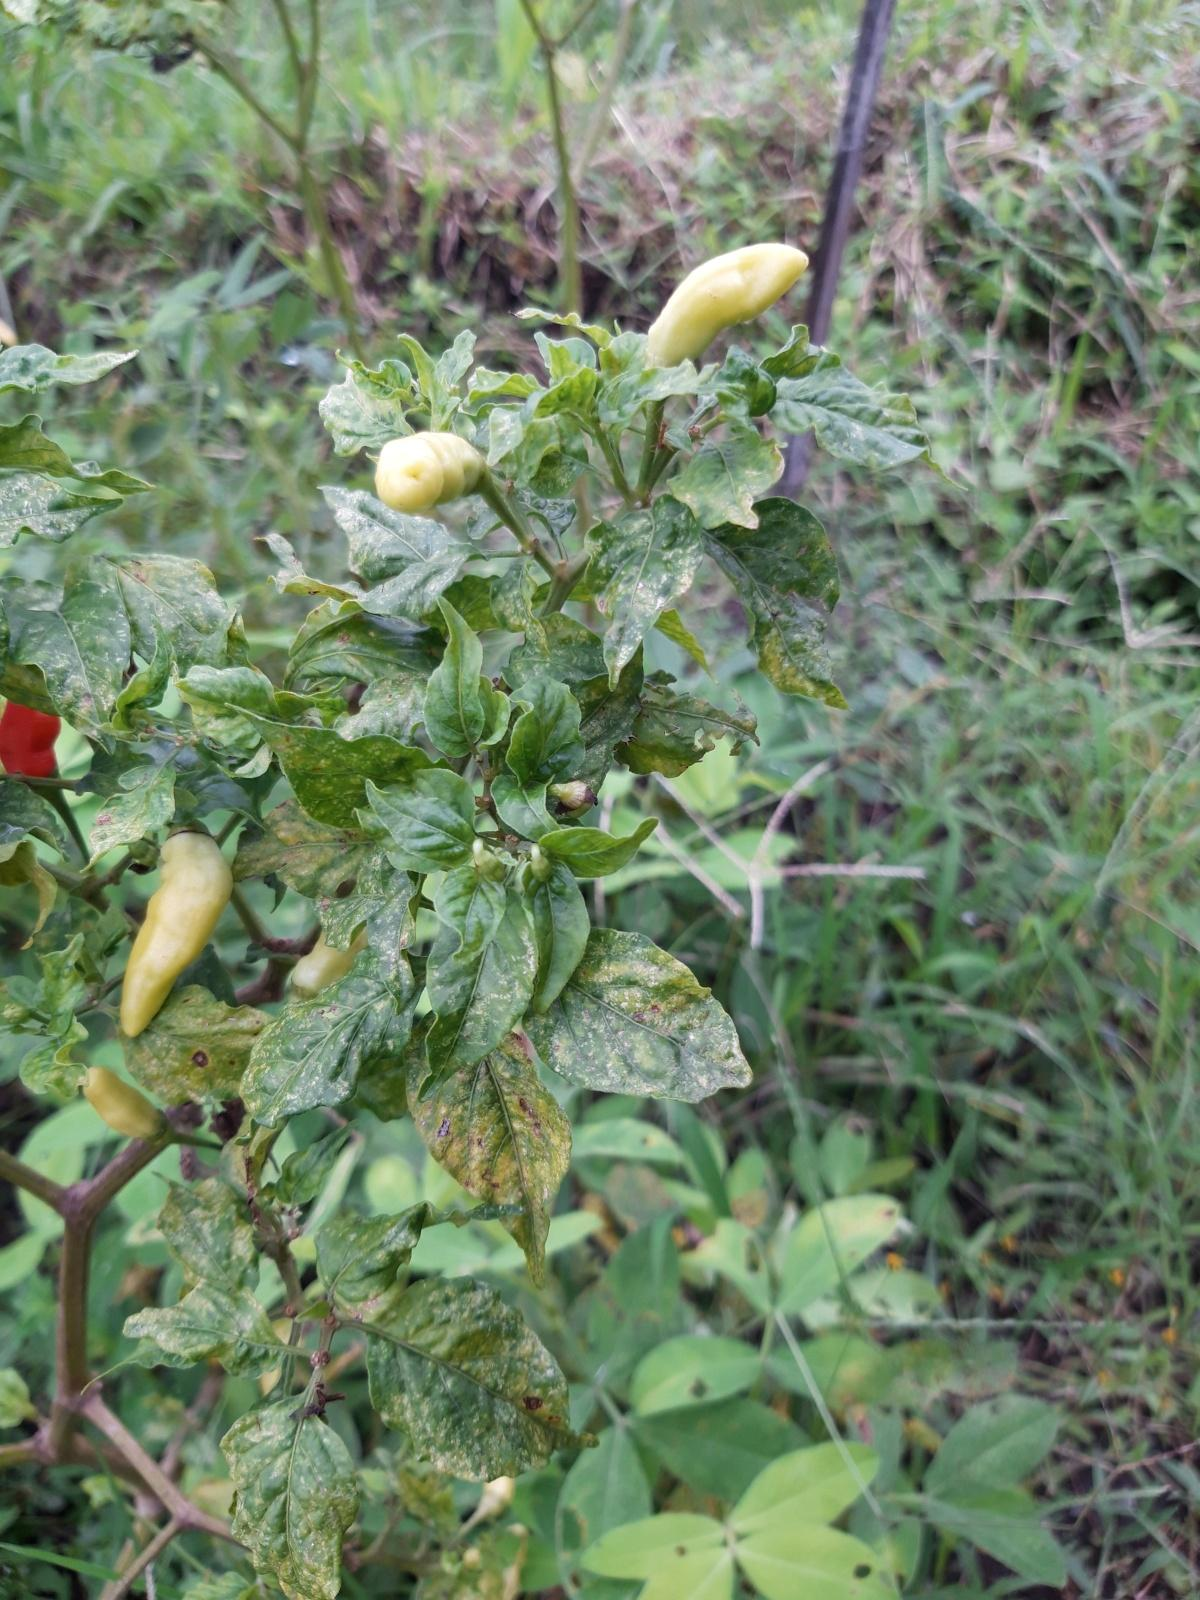cabai_normal: (118, 829, 232, 1042), (645, 243, 808, 374), (374, 430, 489, 513)
